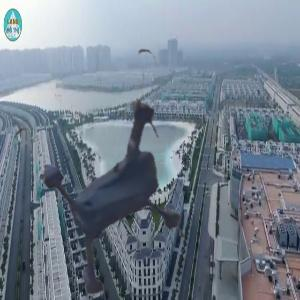drone: (5, 59, 222, 276)
